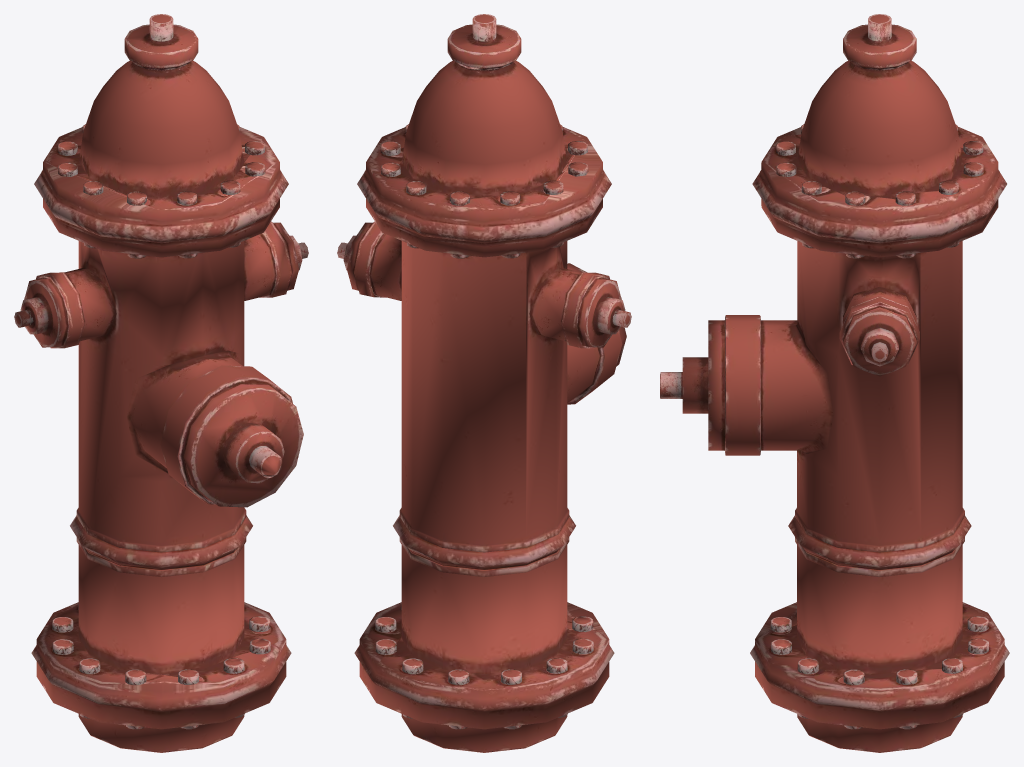
The model's file is borne.glb.
The picture shows the model from 3 angles, left to right: view 1: azimuth 30°, elevation 25°; view 2: azimuth 150°, elevation 25°; view 3: azimuth 270°, elevation 25°; orthographic projection.
Parts seen in each view (by area): view 1: defaultMaterial; view 2: defaultMaterial; view 3: defaultMaterial.
Part boxes in pixels (x1,y1,x2,y2): defaultMaterial: [14, 14, 308, 752]; defaultMaterial: [337, 14, 631, 752]; defaultMaterial: [660, 14, 1009, 752].
Bounding box in the file's own units: 0.8563 × 2 × 0.9068.
1 material, 1 textured.
